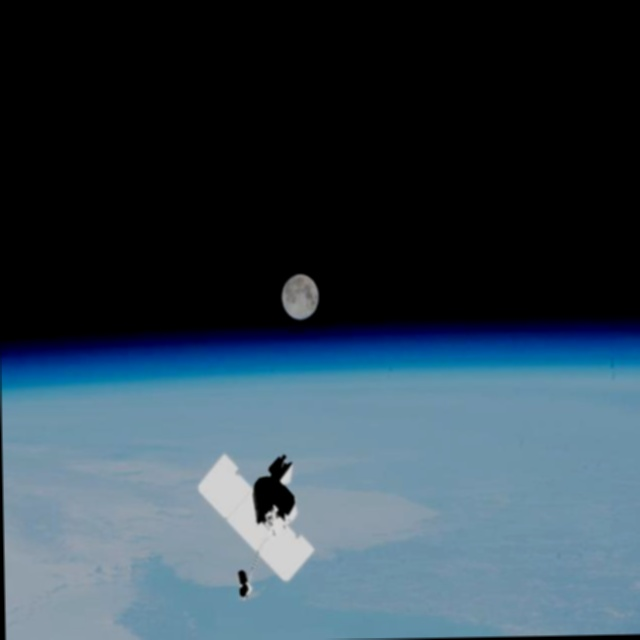satellite: (182, 438, 353, 596)
